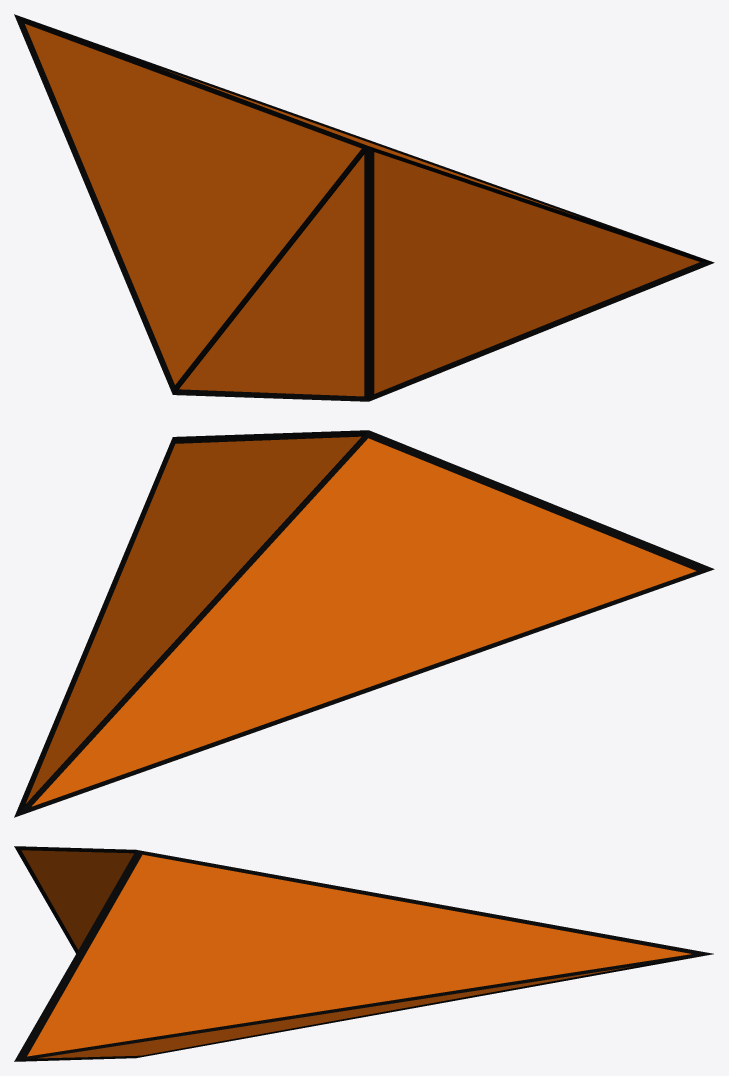
File: Spaceship.fbx
3 views of the same model, one above another, from view 1: azimuth 30°, elevation 25°; view 2: azimuth 150°, elevation 25°; view 3: azimuth 270°, elevation 25° (orthographic). The views are drawn at different scales.
Visible parts, largest first — view 1: Ship; view 2: Ship; view 3: Ship.
Part boxes in pixels (left/top/right/bottom): Ship: left=14, top=14, right=714, bottom=401; Ship: left=14, top=430, right=714, bottom=817; Ship: left=14, top=846, right=713, bottom=1061.
Bounding box in the file's own units: 2.48 × 3.41 × 1.12.
